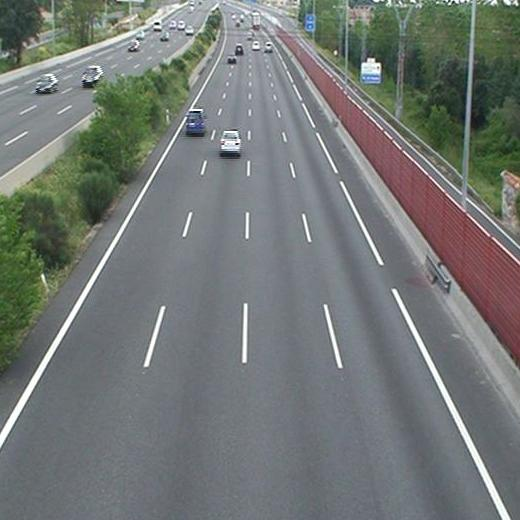car: (219, 130, 241, 153), (264, 42, 273, 52), (251, 40, 260, 50), (235, 44, 243, 54), (227, 55, 236, 63)
van: (187, 110, 206, 135)
